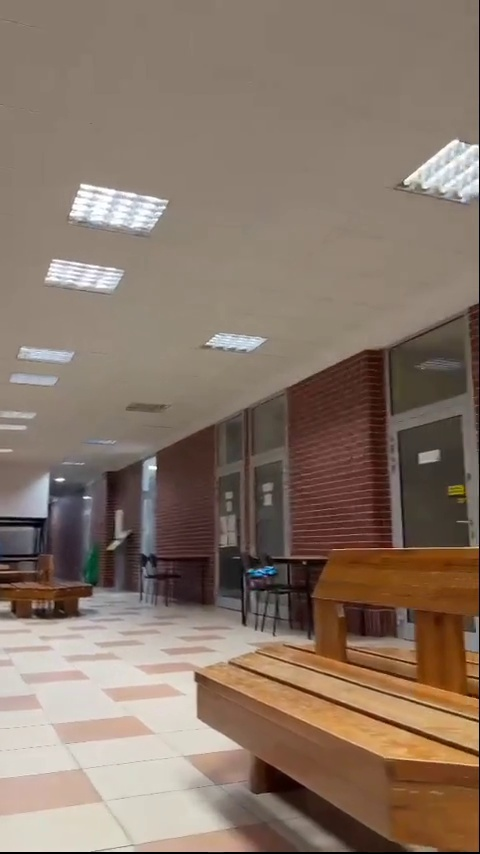drone: (247, 565, 281, 584)
